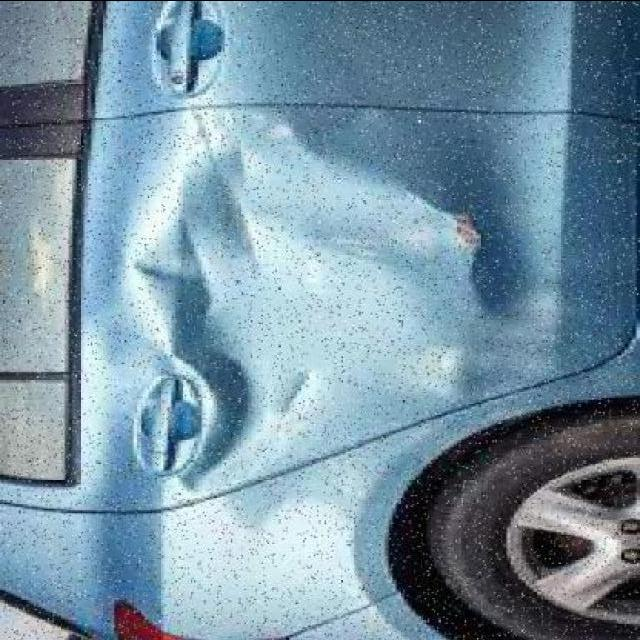doorouter-dent: (83, 106, 636, 509)
